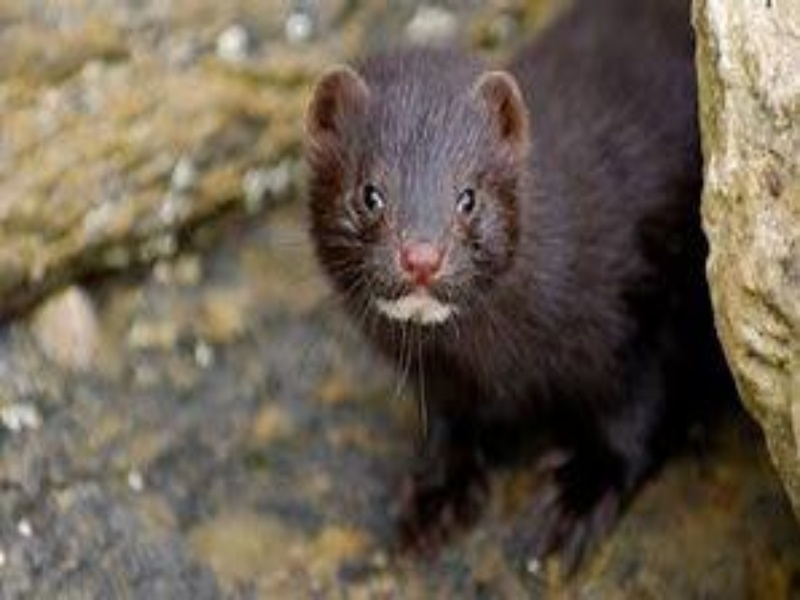minkish: (301, 1, 700, 572)
